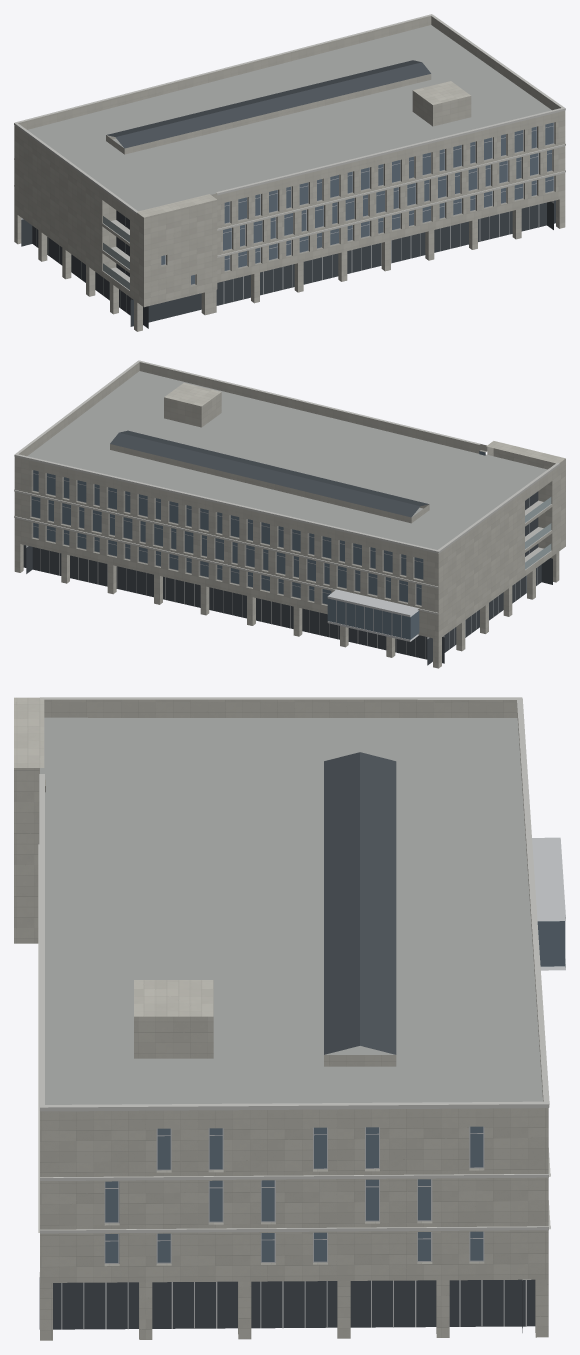
3 renders of one model, top to bottom at view 1: azimuth 30°, elevation 25°; view 2: azimuth 150°, elevation 25°; view 3: azimuth 270°, elevation 25°, orthographic. The views are drawn at different scales.
Parts seen in each view (by area): view 1: veritasD__wall, veritasD__roof, veritasD__glassDark, veritasD__glass, veritasD__column, veritasD__reveal, veritasD__cap, veritasD__frame, veritasD__trim, veritasD__glassRail, veritasD__paving; view 2: veritasD__wall, veritasD__roof, veritasD__glassDark, veritasD__glass, veritasD__frame, veritasD__column, veritasD__reveal, veritasD__cap, veritasD__trim, veritasD__glassRail, veritasD__paving; view 3: veritasD__roof, veritasD__wall, veritasD__glassDark, veritasD__cap, veritasD__glass, veritasD__frame, veritasD__trim, veritasD__column, veritasD__reveal.
Boxes of the visible parts, bbox=[...] form: veritasD__wall: bbox=[14, 16, 565, 307]; veritasD__roof: bbox=[27, 25, 551, 211]; veritasD__glassDark: bbox=[21, 60, 555, 328]; veritasD__glass: bbox=[161, 122, 553, 284]; veritasD__column: bbox=[14, 198, 565, 331]; veritasD__reveal: bbox=[161, 122, 555, 286]; veritasD__cap: bbox=[14, 14, 565, 214]; veritasD__frame: bbox=[21, 122, 554, 312]; veritasD__trim: bbox=[14, 143, 565, 257]; veritasD__glassRail: bbox=[103, 216, 129, 289]; veritasD__paving: bbox=[102, 220, 129, 290]; veritasD__wall: bbox=[14, 362, 565, 639]; veritasD__roof: bbox=[27, 371, 547, 549]; veritasD__glassDark: bbox=[23, 430, 552, 665]; veritasD__glass: bbox=[31, 451, 485, 639]; veritasD__frame: bbox=[26, 470, 537, 658]; veritasD__column: bbox=[14, 543, 559, 668]; veritasD__reveal: bbox=[30, 450, 486, 606]; veritasD__cap: bbox=[14, 360, 559, 553]; veritasD__trim: bbox=[14, 489, 438, 614]; veritasD__glassRail: bbox=[525, 497, 551, 569]; veritasD__paving: bbox=[525, 500, 551, 570]; veritasD__roof: bbox=[40, 717, 542, 1104]; veritasD__wall: bbox=[14, 697, 548, 1282]; veritasD__glassDark: bbox=[39, 752, 535, 1332]; veritasD__cap: bbox=[39, 697, 549, 1111]; veritasD__glass: bbox=[105, 921, 565, 1262]; veritasD__frame: bbox=[61, 837, 565, 1329]; veritasD__trim: bbox=[38, 844, 550, 1233]; veritasD__column: bbox=[40, 1279, 548, 1340]; veritasD__reveal: bbox=[45, 779, 484, 1266].
Size of the model in its own units: 67.12 by 19.6 by 38.13.
Materials: 12 (3 with a texture image).
